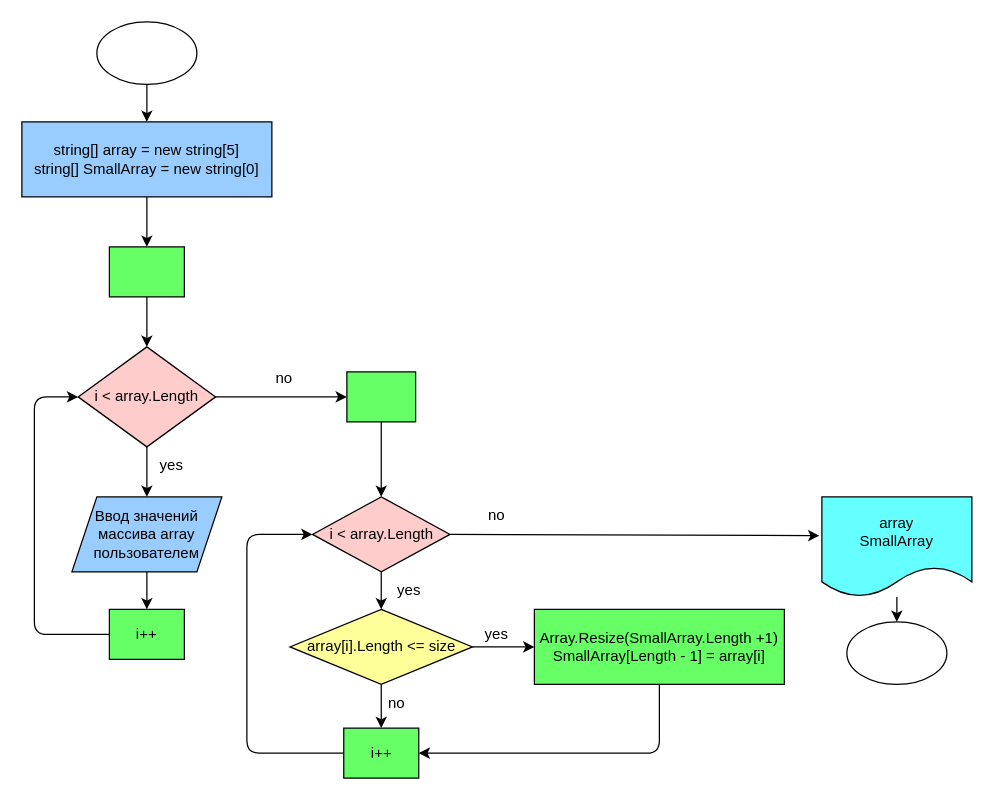
Some shapes in this 994 by 800 pixel diagram are drawn without their labels. The shapes that lost their labels are listed below. From the top down, each one's centre as x and y in pixels, then its label:
At [146,52]: "Начало".
At [146,271]: "i = 0".
At [381,396]: "size = 3 i = 0".
At [896,652]: "КОНЕЦ".
